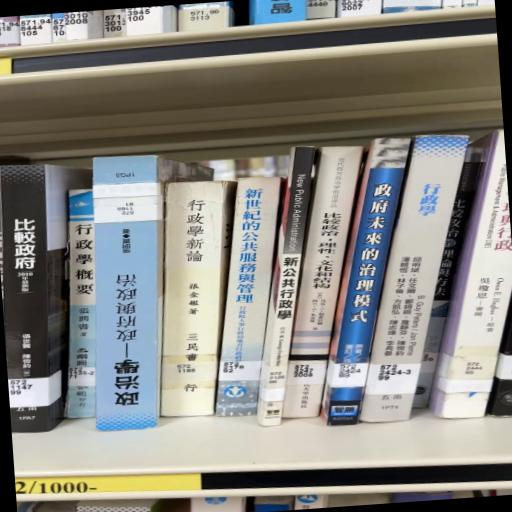reverse: (93, 156, 213, 431)
